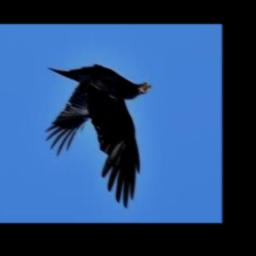Crow: (47, 65, 151, 209)
